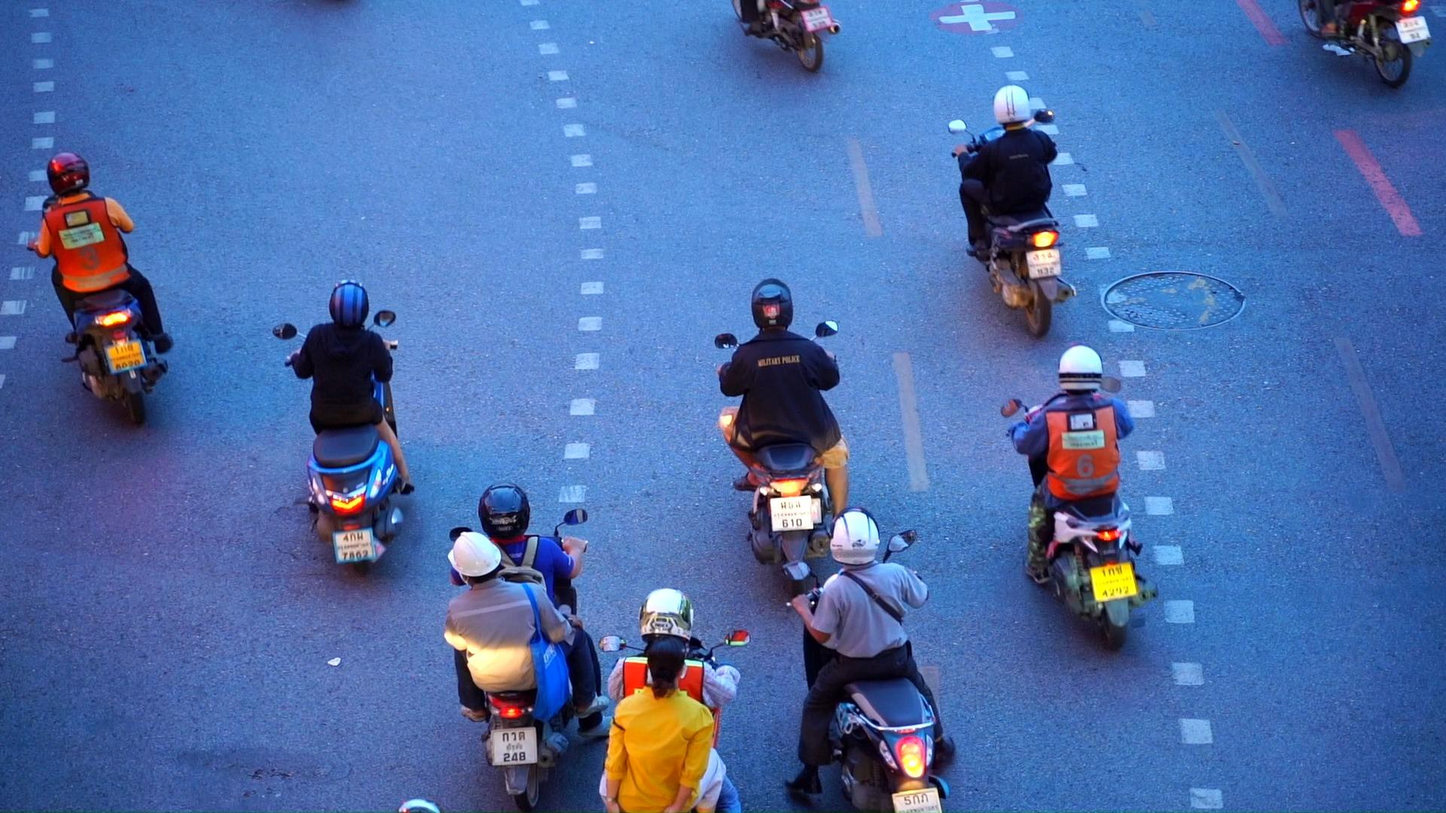driver: (443, 480, 613, 813), (779, 505, 956, 813), (999, 342, 1160, 656), (712, 279, 852, 596), (16, 152, 174, 426), (272, 279, 415, 578), (596, 588, 750, 813), (946, 83, 1079, 341), (1296, 0, 1432, 88), (732, 0, 841, 74)
helmet: (638, 588, 695, 644), (447, 532, 502, 590), (478, 480, 530, 540), (830, 505, 880, 566), (751, 278, 793, 335), (1058, 342, 1103, 392), (46, 152, 91, 198), (329, 279, 369, 330), (993, 84, 1030, 130)
no-helmet: (646, 636, 688, 700)
